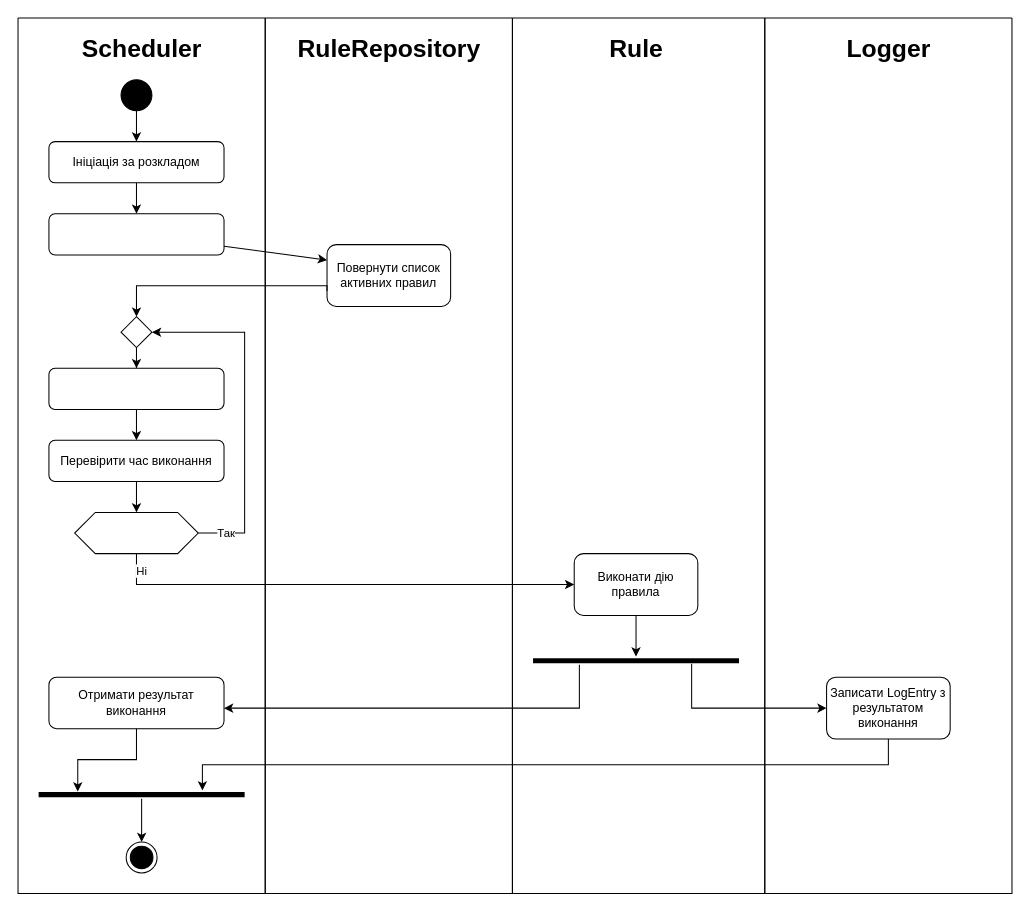
The diagram is 1030 pixels wide and 912 high, and some of its shapes have lost their labels. The shapes that lost their labels are listed below. From the top down, each one's box as (x1, y1, x2, y2) in pixels, then its label:
(48, 213, 224, 255): Запит активних правил
(48, 367, 224, 409): Отримати наступне правило
(74, 511, 198, 554): Час НЕ настав?
